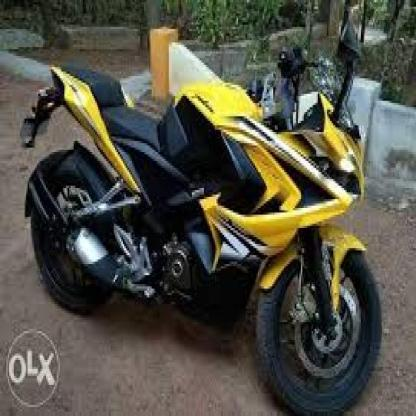bike: (21, 9, 384, 416)
